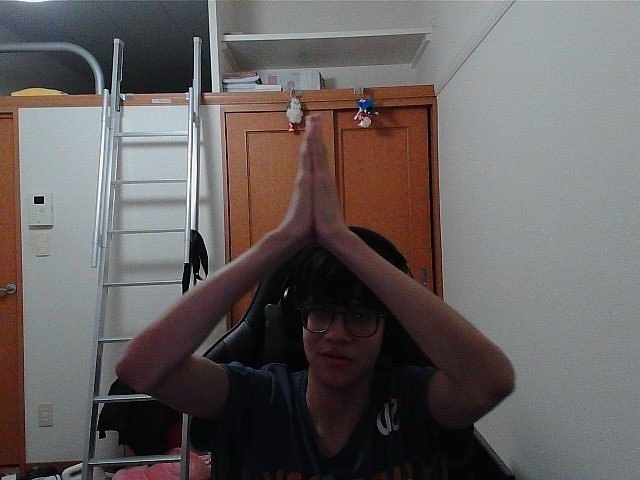pray: (313, 123, 329, 228)
